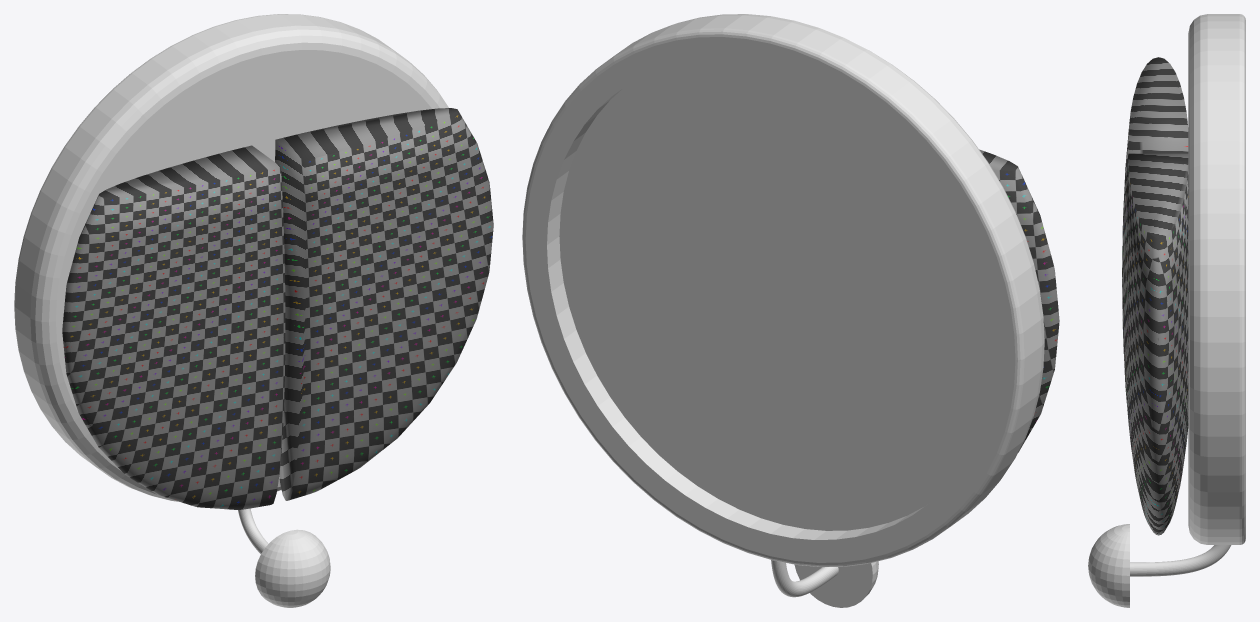
File: ladybug_5.glb
3 renders of one model, left to right at view 1: azimuth 30°, elevation 25°; view 2: azimuth 150°, elevation 25°; view 3: azimuth 270°, elevation 25°, orthographic. The views are drawn at different scales.
Visible parts, largest first — view 1: Wings, Base, Hook; view 2: Base, Wings, Hook, Metal; view 3: Base, Wings, Hook, Metal.
Boxes of the visible parts, x1,y1,x2,y2 form: Wings: (62, 108, 493, 509); Base: (14, 14, 448, 501); Hook: (255, 529, 330, 607); Base: (522, 14, 1044, 567); Wings: (979, 149, 1059, 452); Hook: (794, 561, 878, 607); Metal: (771, 560, 838, 597); Base: (1188, 14, 1245, 544); Wings: (1122, 57, 1188, 535); Hook: (1088, 524, 1129, 607); Metal: (1130, 545, 1231, 576).
Size of the model in its own units: 1.61 by 1.89 by 0.4772.
Materials: 1 (1 with a texture image).
